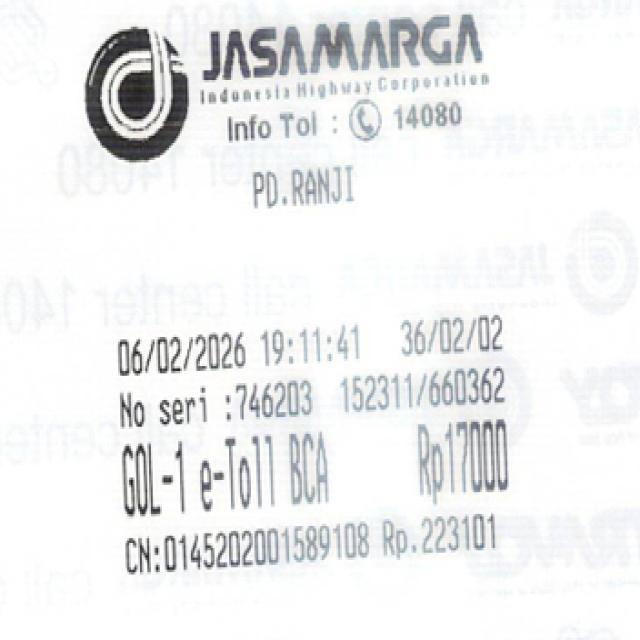date: (110, 326, 377, 377)
store: (192, 17, 508, 82)
total: (411, 415, 510, 498)
